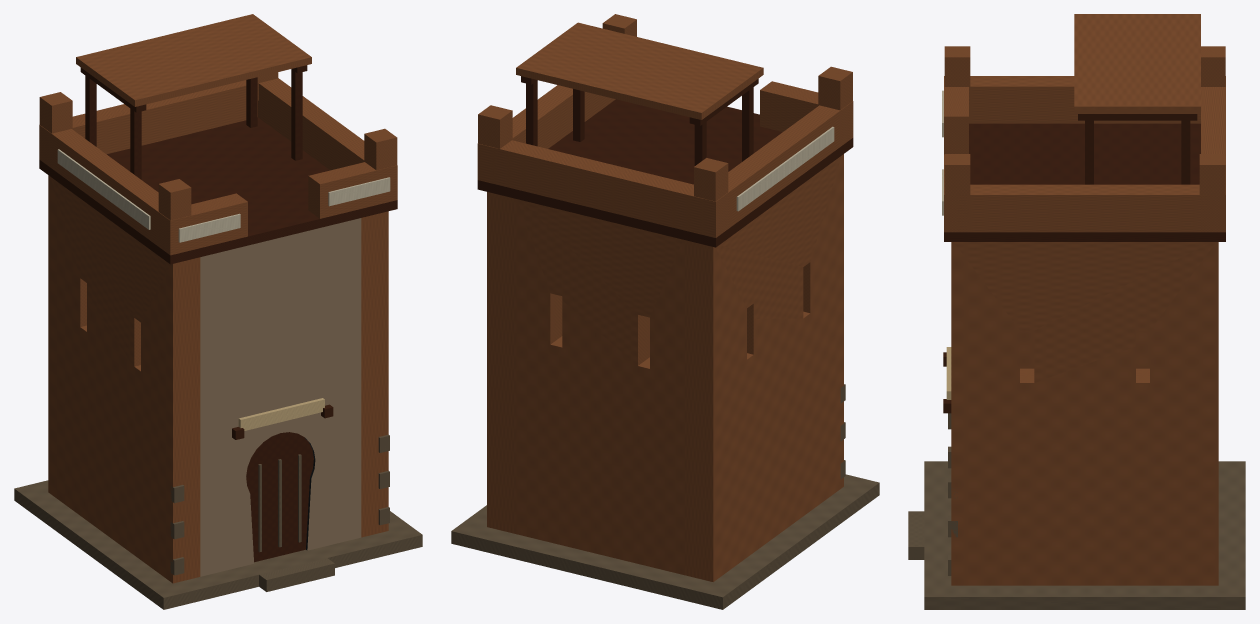
Rendered from Berber_Outpost_Age2_base.fbx.
The picture shows the model from 3 angles, left to right: view 1: azimuth 30°, elevation 25°; view 2: azimuth 150°, elevation 25°; view 3: azimuth 270°, elevation 25°; orthographic projection. The views are drawn at different scales.
Parts seen in each view (by area): view 1: west_thick_wall, south_thick_wall, lookout_floor, fitted_flat_canopy, tower_foundation, east_thick_wall, lookout_parapet_back, horseshoe_door, lookout_parapet_side.001, lookout_parapet_side, lookout_parapet_front.001, lookout_parapet_front (+12 smaller); view 2: north_thick_wall, west_thick_wall, lookout_floor, fitted_flat_canopy, tower_foundation, lookout_parapet_back, east_thick_wall, lookout_parapet_side, lookout_parapet_side.001, lookout_parapet_front, neutral_owner_side_band, corner_merlon.003 (+5 smaller); view 3: east_thick_wall, lookout_floor, tower_foundation, fitted_flat_canopy, lookout_parapet_side.001, lookout_parapet_side, lookout_parapet_back, lookout_parapet_front, corner_merlon, west_thick_wall, corner_merlon.002, corner_merlon.003 (+6 smaller).
Boxes of the visible parts, x1,y1,x2,y2 form: west_thick_wall: [48, 175, 200, 583]; south_thick_wall: [200, 218, 361, 576]; lookout_floor: [39, 117, 397, 264]; fitted_flat_canopy: [76, 14, 311, 106]; tower_foundation: [14, 480, 422, 609]; east_thick_wall: [361, 211, 388, 537]; lookout_parapet_back: [39, 80, 257, 167]; horseshoe_door: [246, 432, 313, 562]; lookout_parapet_side.001: [258, 78, 364, 170]; lookout_parapet_side: [51, 129, 164, 250]; lookout_parapet_front.001: [308, 162, 397, 218]; lookout_parapet_front: [159, 193, 247, 255]; north_thick_wall: [515, 199, 684, 575]; west_thick_wall: [684, 154, 843, 581]; lookout_floor: [477, 99, 853, 247]; fitted_flat_canopy: [516, 22, 763, 119]; tower_foundation: [451, 474, 879, 609]; lookout_parapet_back: [477, 140, 727, 237]; east_thick_wall: [487, 192, 515, 533]; lookout_parapet_side: [728, 105, 846, 228]; lookout_parapet_side.001: [512, 85, 615, 148]; lookout_parapet_front: [760, 81, 853, 145]; neutral_owner_side_band: [736, 126, 834, 211]; corner_merlon.003: [478, 105, 512, 148]; east_thick_wall: [951, 242, 1218, 585]; lookout_floor: [944, 123, 1225, 241]; tower_foundation: [924, 461, 1245, 609]; fitted_flat_canopy: [1074, 14, 1200, 113]; lookout_parapet_side.001: [956, 184, 1213, 232]; lookout_parapet_side: [969, 76, 1200, 123]; lookout_parapet_back: [1201, 76, 1225, 232]; lookout_parapet_front: [944, 76, 968, 153]; corner_merlon: [944, 46, 970, 105]; west_thick_wall: [1020, 330, 1149, 368]; corner_merlon.002: [944, 154, 970, 194]; corner_merlon.003: [1199, 154, 1225, 194].
Bounding box in the file's own units: 360 × 596 × 378.
5 materials, 5 textured.
